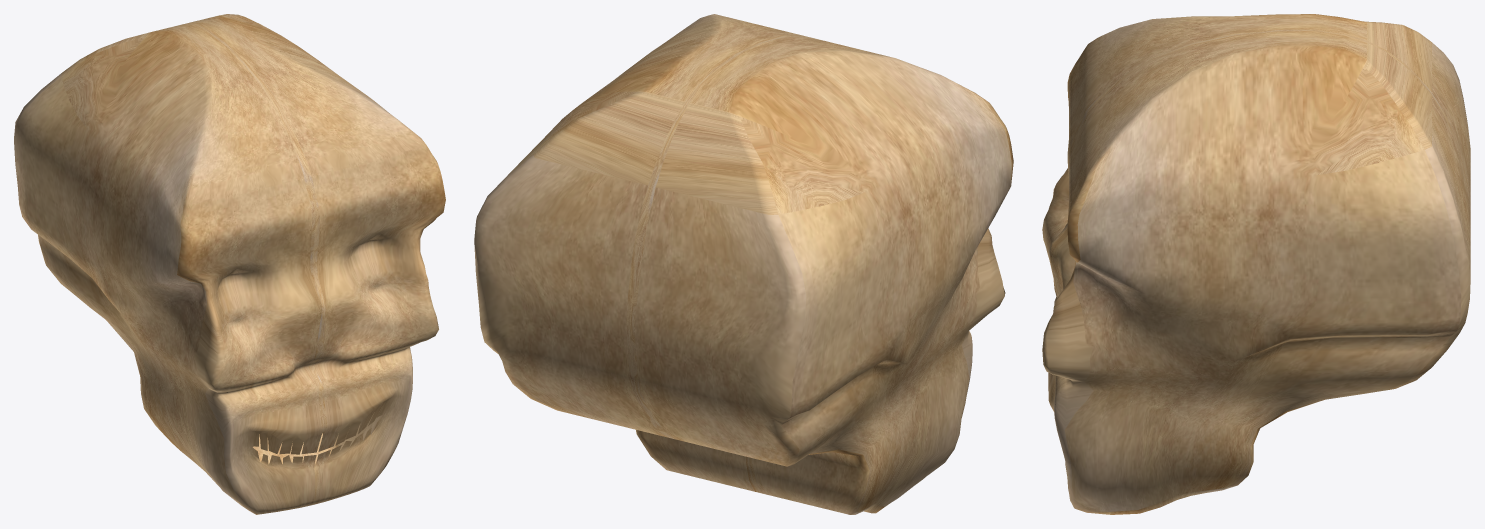
The model's file is BoneSkull.FBX.
3 views of the same model, side by side, from view 1: azimuth 30°, elevation 25°; view 2: azimuth 150°, elevation 25°; view 3: azimuth 270°, elevation 25° (orthographic). The views are drawn at different scales.
Visible parts, largest first — view 1: Box002; view 2: Box002; view 3: Box002.
Boxes of the visible parts, left/top/right/bottom form: Box002: left=14, top=14, right=445, bottom=514; Box002: left=474, top=14, right=1013, bottom=514; Box002: left=1042, top=14, right=1470, bottom=514.
Size of the model in its own units: 10.43 by 14.66 by 12.44.
1 material, 1 textured.
